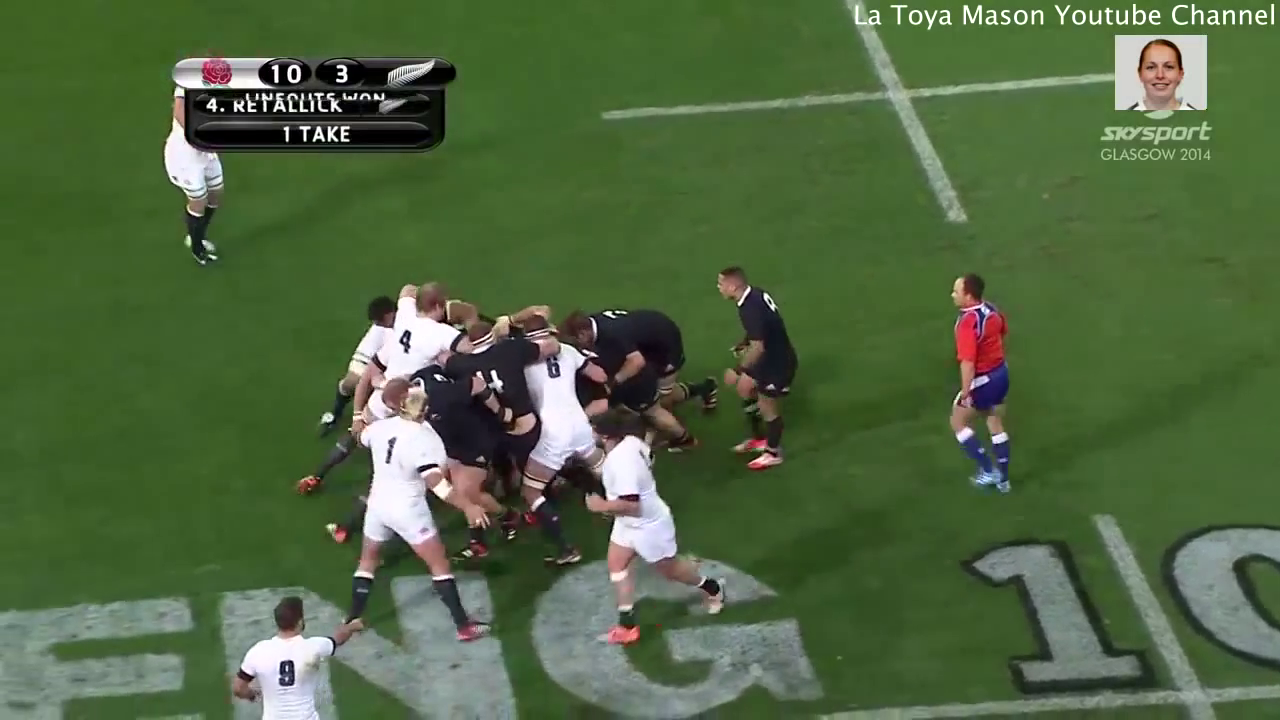10_metre: (593, 1, 1132, 232), (818, 505, 1280, 720)
player: (584, 411, 726, 658), (355, 384, 481, 646), (559, 305, 720, 442), (703, 266, 801, 476), (938, 270, 1022, 500), (520, 354, 599, 563), (233, 597, 365, 720), (157, 154, 235, 271), (381, 282, 459, 369)
